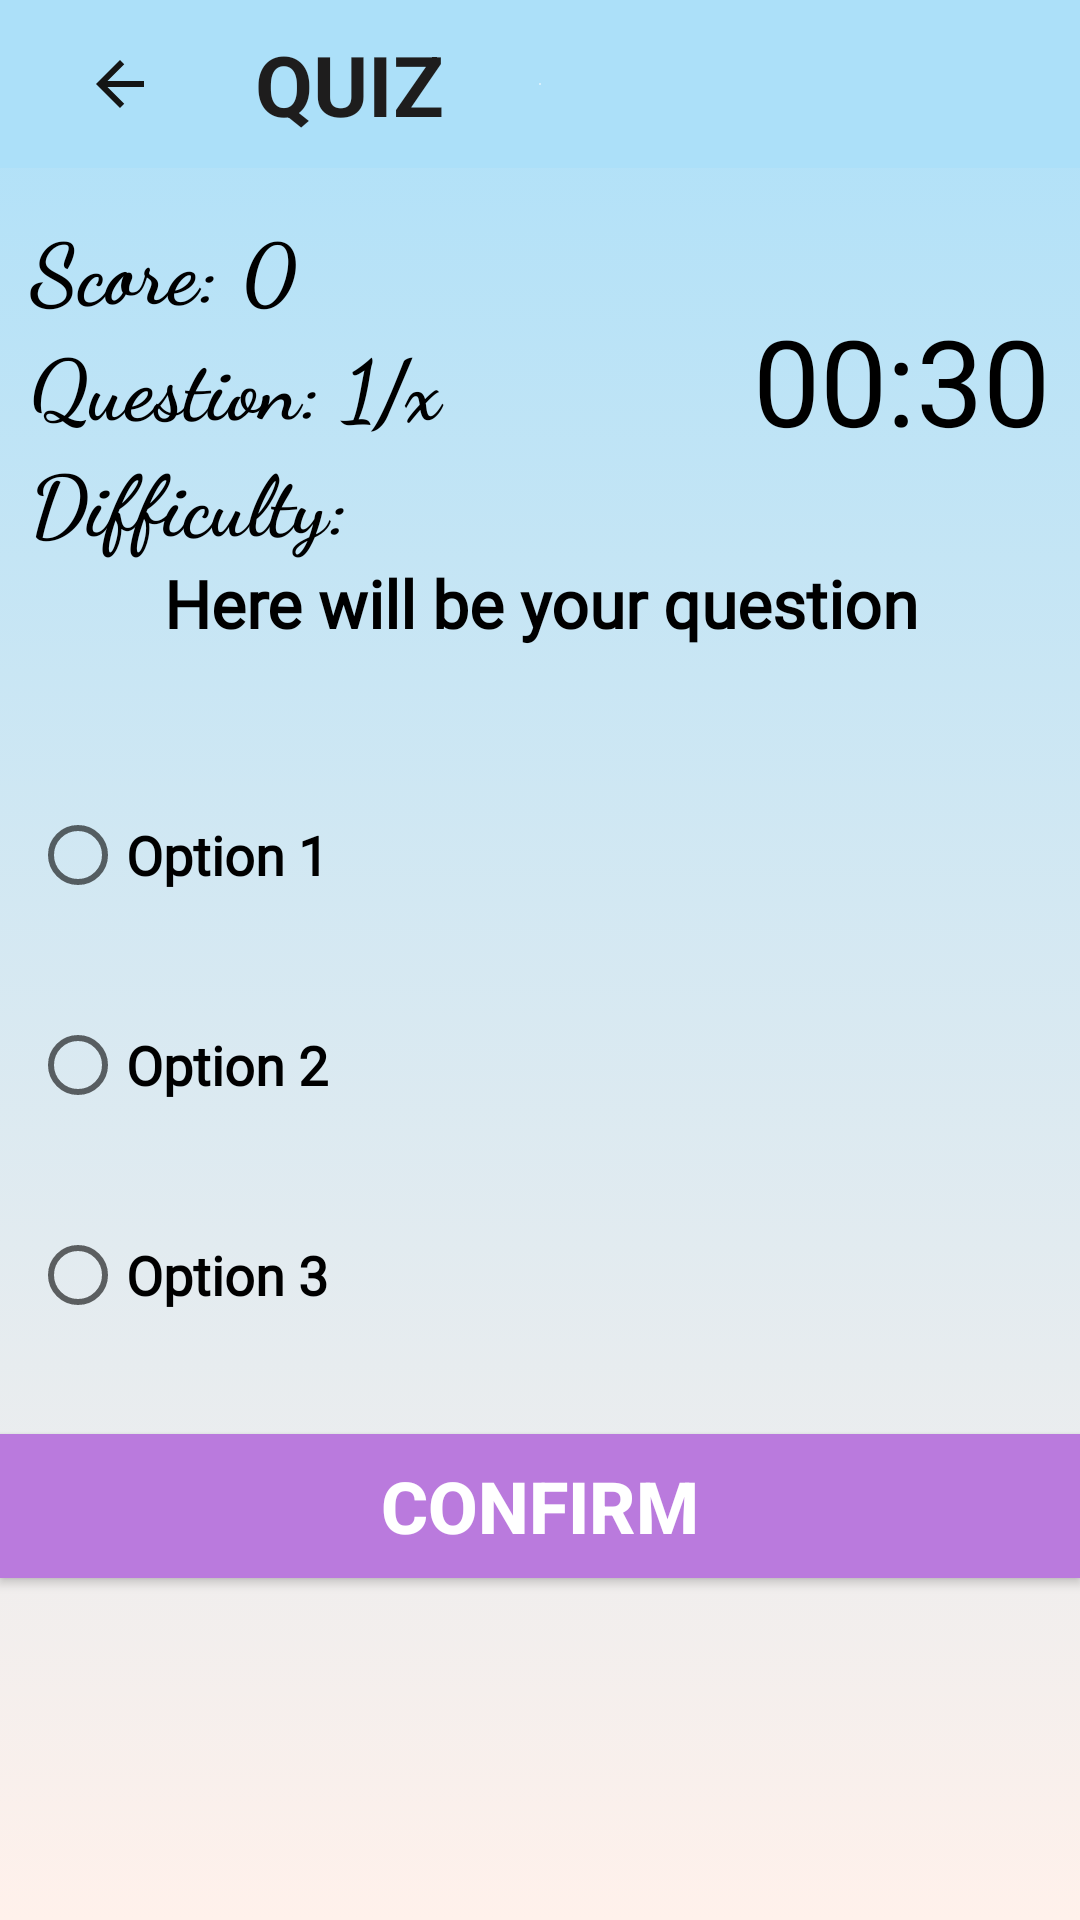

Point at icon controls on the screen. Image size 1080w x 1920h, points as point (x, y).
back: point (120, 84)
